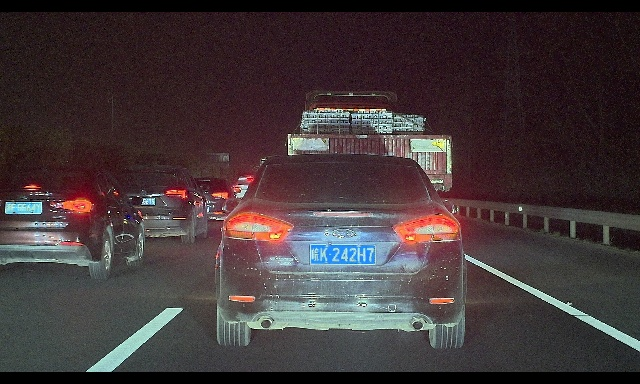car: (215, 153, 467, 350), (0, 163, 145, 280), (108, 165, 210, 244), (187, 177, 235, 223)
truck: (285, 89, 453, 254)
